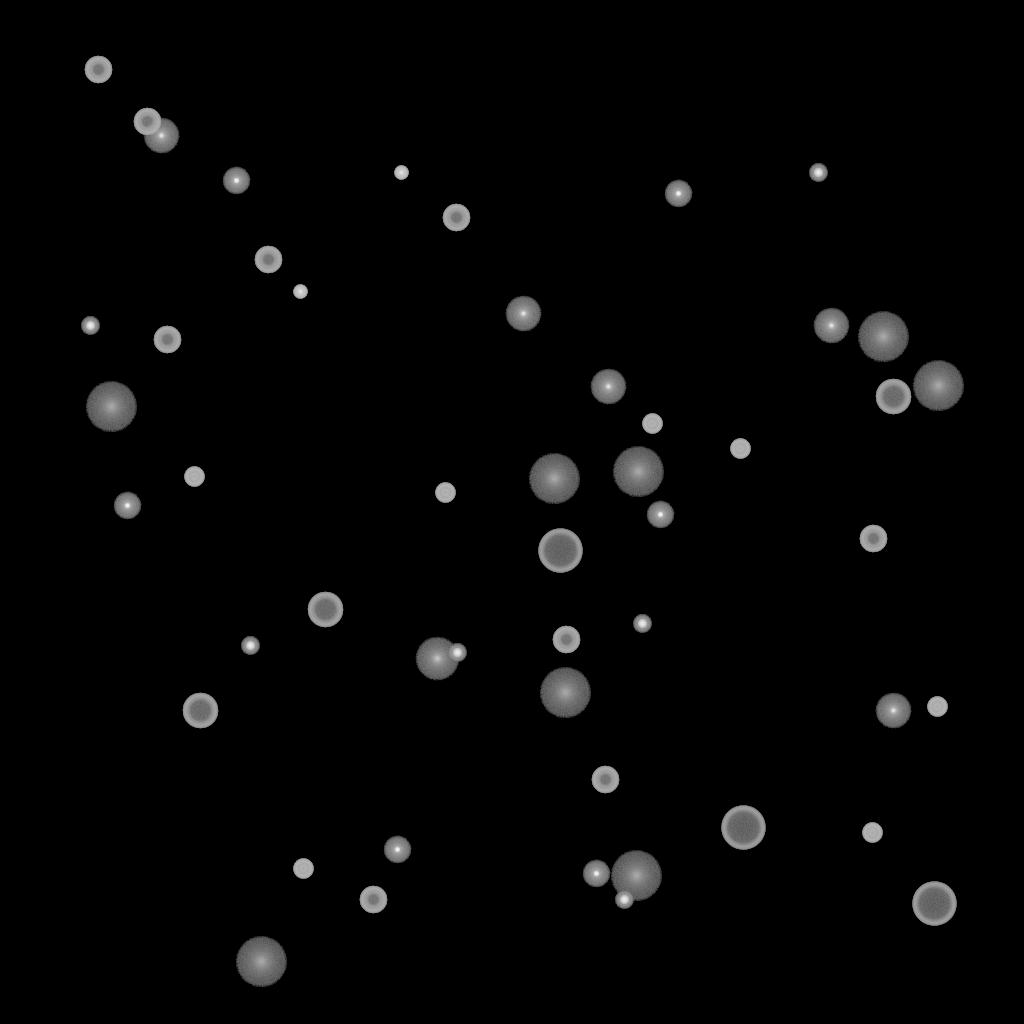depth:-10: (113, 492, 141, 520), (664, 180, 692, 208), (383, 836, 411, 864), (582, 860, 610, 888), (646, 501, 674, 529), (222, 167, 250, 195)
depth:-20: (809, 164, 827, 182), (81, 317, 99, 335), (448, 644, 466, 662), (615, 891, 633, 909), (241, 637, 259, 655), (633, 615, 651, 633)
depth:-30: (293, 285, 307, 299), (394, 166, 408, 180)
depth:-40: (293, 859, 313, 879), (730, 439, 750, 459), (184, 467, 204, 487), (862, 823, 882, 843), (435, 483, 455, 503), (642, 414, 662, 434), (927, 697, 947, 717)
depth:-50: (133, 108, 161, 136), (254, 246, 282, 274), (84, 56, 112, 84), (591, 766, 619, 794), (859, 525, 887, 553), (442, 204, 470, 232), (359, 886, 387, 914), (153, 326, 181, 354), (552, 626, 580, 654)
depth:-60: (182, 693, 218, 729), (875, 379, 911, 415), (307, 592, 343, 628)
depth:-70: (912, 882, 956, 926), (538, 529, 582, 573), (721, 806, 765, 850)
depth:0: (875, 693, 911, 729), (505, 296, 541, 332), (813, 308, 849, 344), (143, 118, 179, 154), (590, 369, 626, 405)
depth:10: (415, 637, 459, 681)
depth:20: (528, 454, 580, 504), (912, 361, 964, 411), (857, 312, 909, 362), (612, 447, 664, 497), (235, 937, 287, 987), (539, 668, 591, 718), (85, 382, 137, 432), (610, 851, 662, 901)
